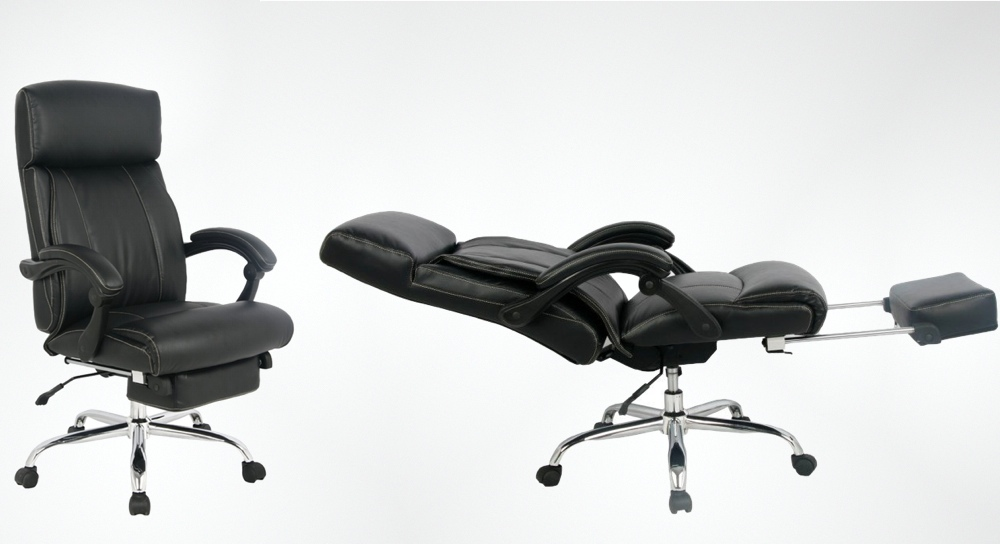chairs: (319, 200, 1000, 516), (11, 78, 299, 518)
